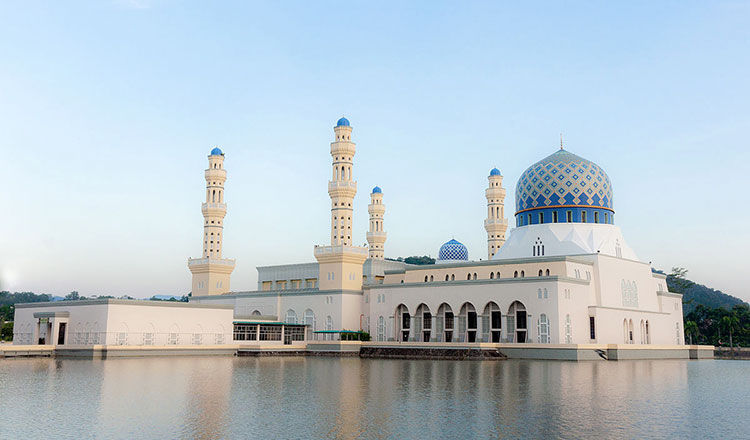Mosque: (179, 119, 628, 359)
